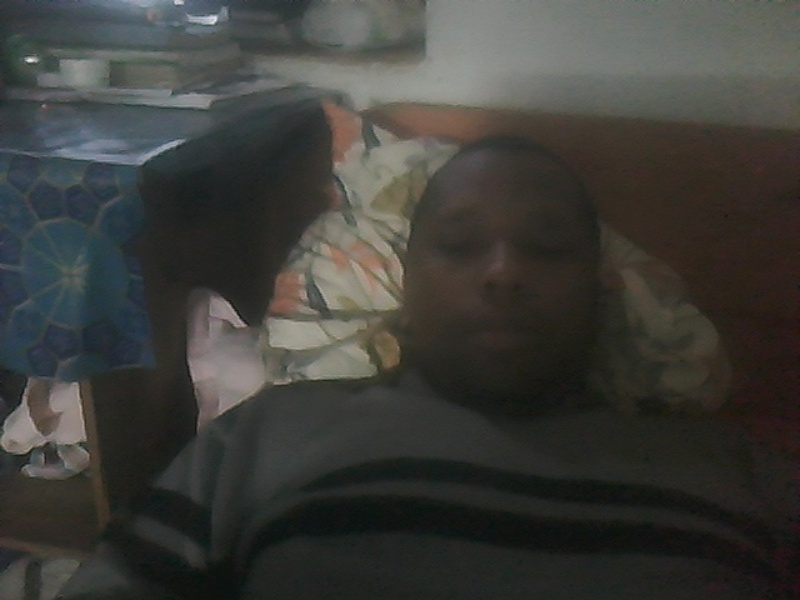TsisyArotava: (394, 118, 614, 424)
